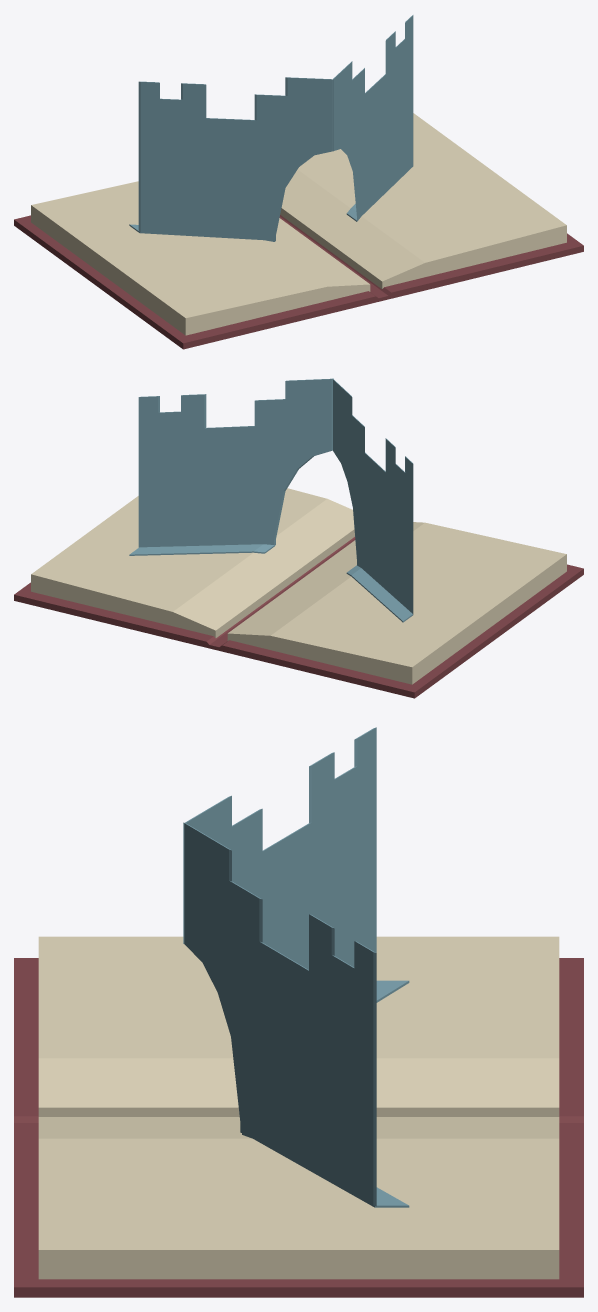
3 renders of one model, top to bottom at view 1: azimuth 30°, elevation 25°; view 2: azimuth 150°, elevation 25°; view 3: azimuth 270°, elevation 25°, orthographic. The views are drawn at different scales.
Visible parts, largest first — view 1: WholeRightPageBlock, WholeLeftPageBlock, WholeVFoldGatehousePanel-1, WholeVFoldGatehousePanel1, WholeOpenCoverAndSpine; view 2: WholeLeftPageBlock, WholeVFoldGatehousePanel1, WholeRightPageBlock, WholeVFoldGatehousePanel-1, WholeOpenCoverAndSpine, WholePageAttachedGlueTab1, WholePageAttachedGlueTab-1; view 3: WholeRightPageBlock, WholeLeftPageBlock, WholeVFoldGatehousePanel1, WholeOpenCoverAndSpine, WholeVFoldGatehousePanel-1.
Boxes of the visible parts, x1=… form: WholeRightPageBlock: x1=280, y1=113, x2=566, y2=288; WholeLeftPageBlock: x1=31, y1=181, x2=370, y2=335; WholeVFoldGatehousePanel-1: x1=138, y1=77, x2=333, y2=241; WholeVFoldGatehousePanel1: x1=332, y1=15, x2=413, y2=220; WholeOpenCoverAndSpine: x1=14, y1=215, x2=583, y2=349; WholeLeftPageBlock: x1=227, y1=522, x2=566, y2=684; WholeVFoldGatehousePanel1: x1=138, y1=378, x2=333, y2=547; WholeRightPageBlock: x1=31, y1=488, x2=354, y2=637; WholeVFoldGatehousePanel-1: x1=333, y1=379, x2=413, y2=614; WholeOpenCoverAndSpine: x1=14, y1=537, x2=583, y2=698; WholePageAttachedGlueTab1: x1=129, y1=544, x2=274, y2=555; WholePageAttachedGlueTab-1: x1=346, y1=565, x2=412, y2=622; WholeRightPageBlock: x1=38, y1=1117, x2=559, y2=1279; WholeLeftPageBlock: x1=38, y1=936, x2=559, y2=1116; WholeVFoldGatehousePanel1: x1=183, y1=822, x2=376, y2=1206; WholeOpenCoverAndSpine: x1=14, y1=958, x2=583, y2=1297; WholeVFoldGatehousePanel-1: x1=183, y1=727, x2=376, y2=969.
Bounding box in the file's own units: 0.41 × 0.18 × 0.3.
